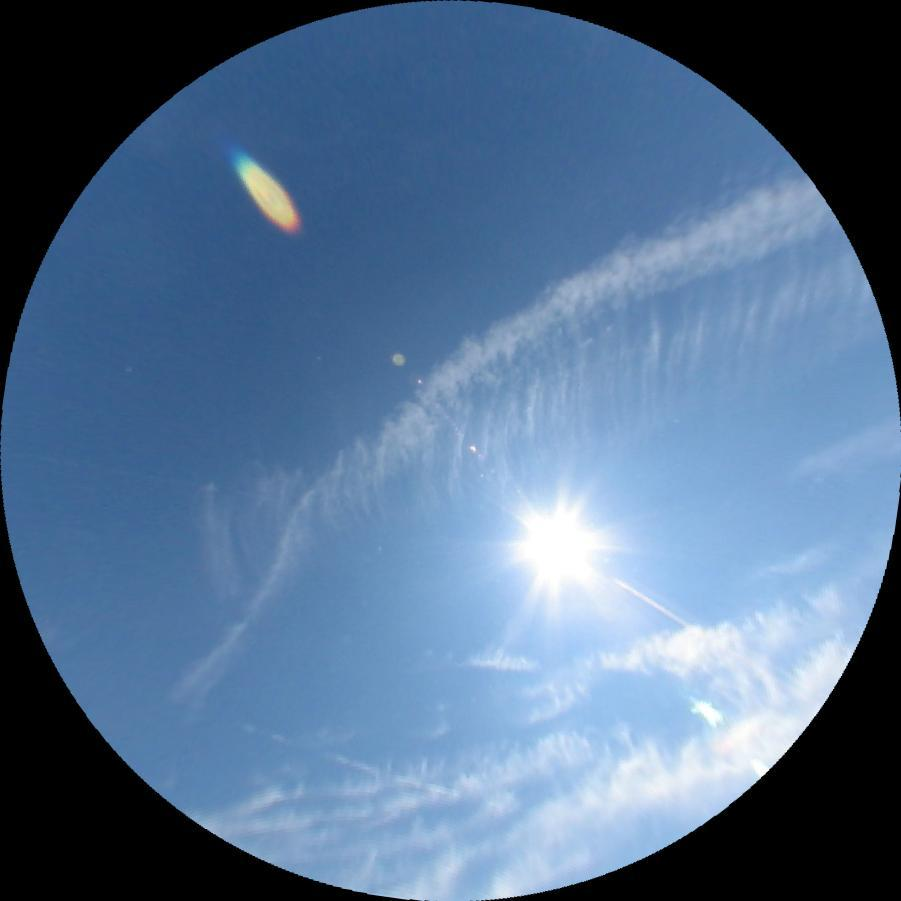contrail veryold: (100, 111, 838, 722), (175, 223, 884, 607)
contrail young: (238, 724, 505, 819)
parasite: (612, 577, 691, 628)
sun: (521, 515, 592, 583)
